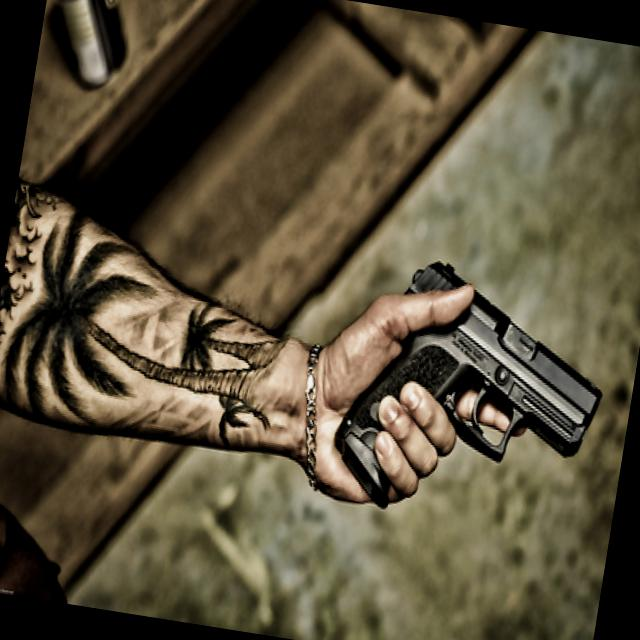handgun: (320, 246, 619, 530)
